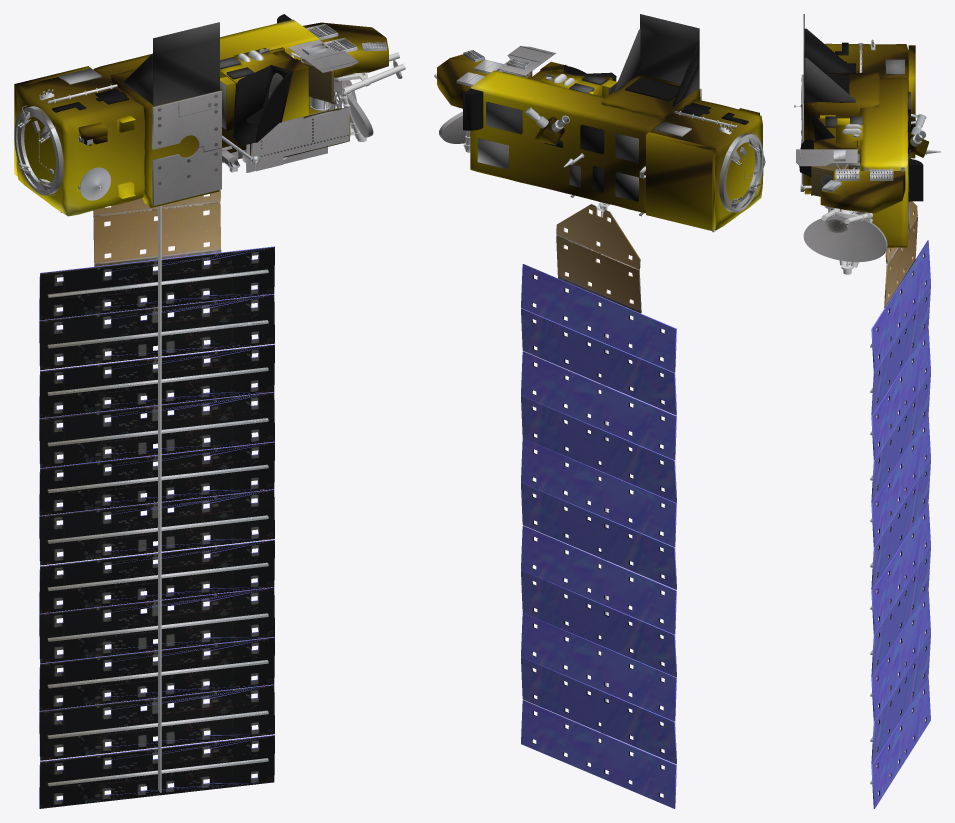
File: Aura.glb
3 views of the same model, side by side, from view 1: azimuth 30°, elevation 25°; view 2: azimuth 150°, elevation 25°; view 3: azimuth 270°, elevation 25° (orthographic). The views are drawn at different scales.
Visible parts, largest first — view 1: tex_01b, foil_gold, tex_01c, shiny_panel, tex_01, foil_silver, black_krinkle, tex_01d; view 2: shiny_panel, foil_gold, foil_silver, tex_01b, black_krinkle, tex_01, tex_01c; view 3: shiny_panel, foil_gold, tex_01, foil_silver, tex_01b, black_krinkle, tex_01d, tex_01c.
Boxes of the visible parts, x1,y1,x2,y2 form: tex_01b: (39, 91, 339, 808); foil_gold: (14, 19, 388, 216); tex_01c: (14, 81, 238, 212); shiny_panel: (39, 246, 274, 808); tex_01: (222, 24, 402, 172); foil_silver: (59, 22, 254, 106); black_krinkle: (52, 14, 293, 145); tex_01d: (290, 52, 405, 141); shiny_panel: (521, 264, 676, 808); foil_gold: (437, 54, 763, 230); foil_silver: (477, 14, 699, 201); tex_01b: (532, 202, 664, 798); black_krinkle: (463, 65, 748, 192); tex_01: (439, 46, 574, 195); tex_01c: (559, 83, 765, 232); shiny_panel: (871, 240, 930, 808); foil_gold: (804, 43, 929, 247); tex_01: (796, 115, 926, 262); foil_silver: (803, 14, 910, 232); tex_01b: (856, 201, 926, 796); black_krinkle: (799, 42, 923, 201); tex_01d: (813, 163, 872, 274); tex_01c: (794, 39, 940, 191).
Bounding box in the file's own units: 8.73 × 18.7 × 3.43.
6 materials, 4 textured.
